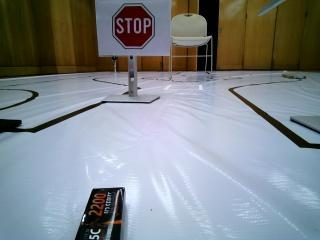stop: (98, 1, 172, 56)
